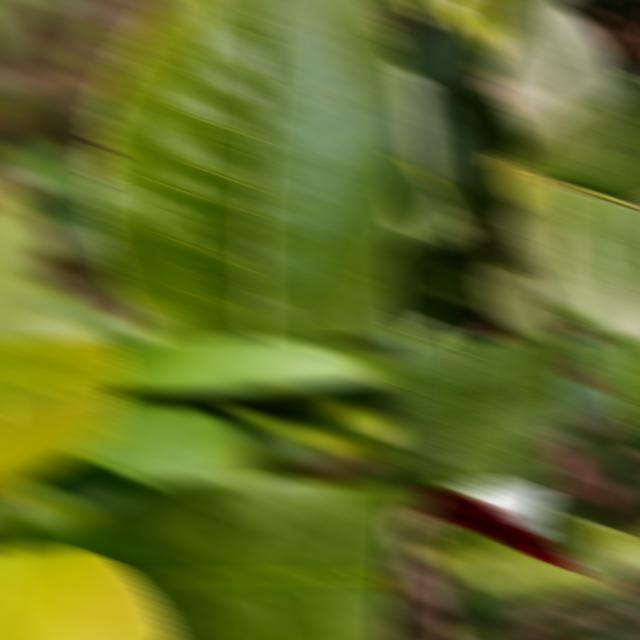Leaf: (86, 0, 403, 342), (19, 475, 403, 640), (498, 77, 640, 342), (389, 336, 584, 494), (419, 511, 640, 602), (495, 0, 626, 147), (389, 59, 487, 253), (0, 336, 126, 485), (0, 544, 177, 640), (111, 336, 381, 396), (66, 397, 246, 487), (478, 225, 582, 342), (393, 13, 494, 93), (0, 202, 52, 342), (389, 239, 456, 340), (431, 0, 505, 60), (389, 471, 430, 513)
